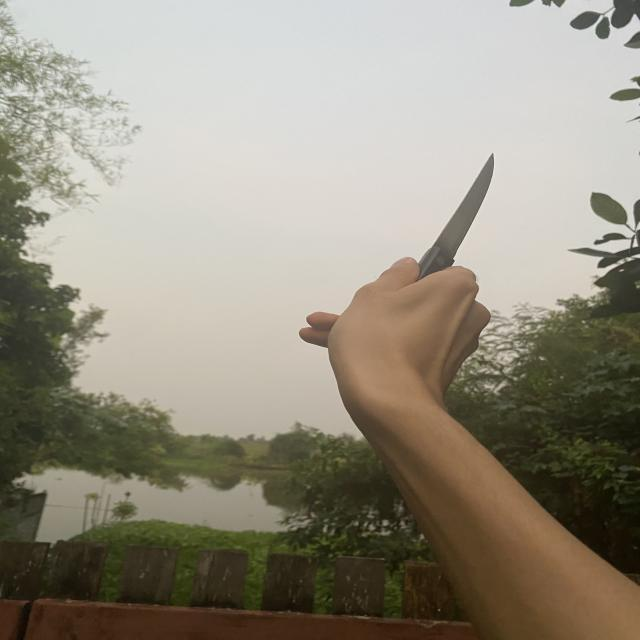faca: (309, 128, 536, 404)
